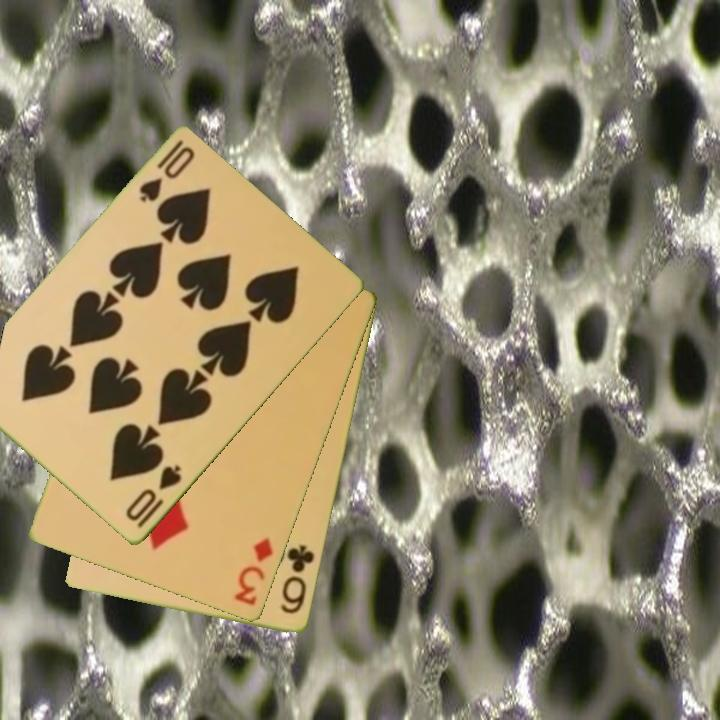10s: (121, 462, 185, 532), (135, 136, 198, 206)
3d: (231, 534, 277, 609)
6c: (277, 542, 318, 618)
